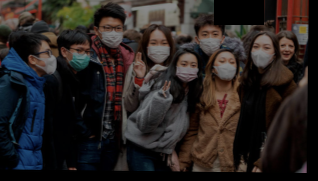with_mask: (97, 20, 123, 49), (196, 27, 221, 55), (146, 36, 170, 63), (37, 45, 58, 75), (174, 57, 199, 82), (66, 44, 90, 70), (251, 40, 274, 67), (212, 55, 236, 79)
without_mask: (276, 40, 294, 60)
